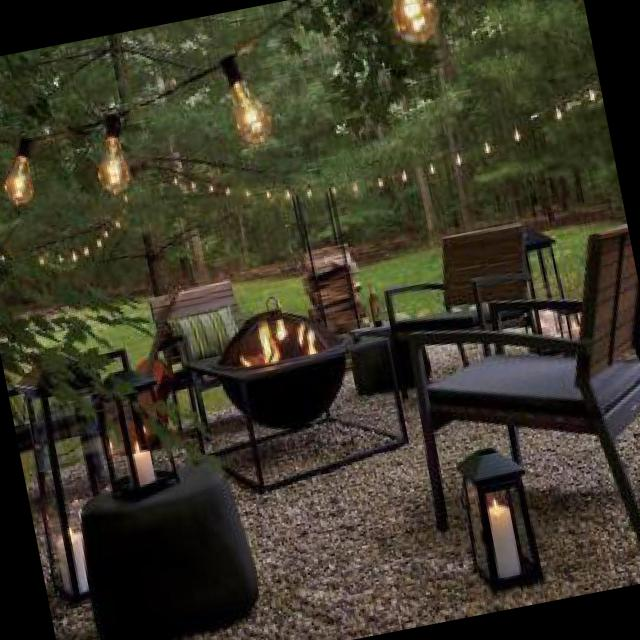Fire: (232, 302, 332, 378)
